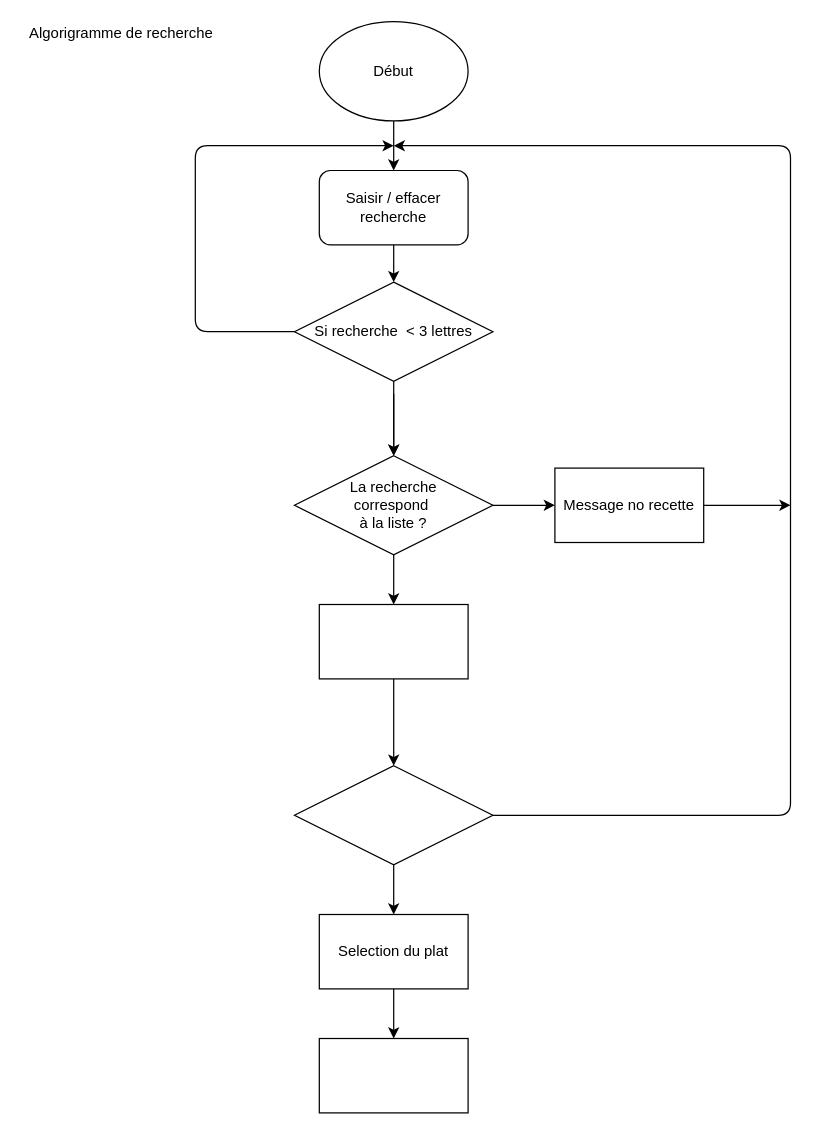
This 822x1135 diagram has some shape labels left out. The centre of each missing label's shape, as x and y in pixels:
Filtrer & Afficher: point (393, 641)
Fin: point (393, 1075)
Le plat convient-il ?: point (393, 814)
